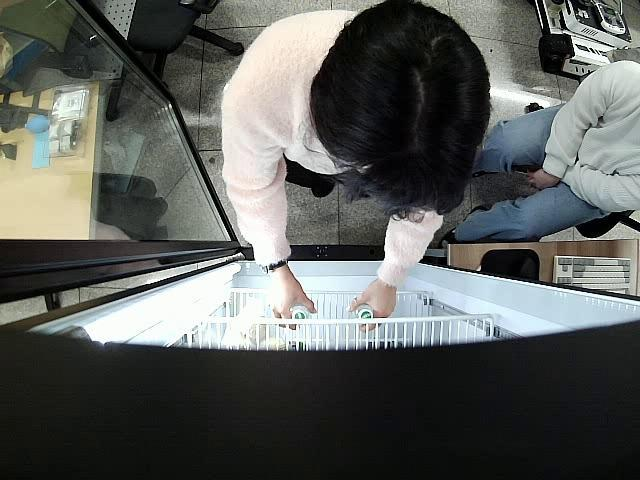18_trevi: (288, 305, 310, 331), (354, 301, 374, 326)
